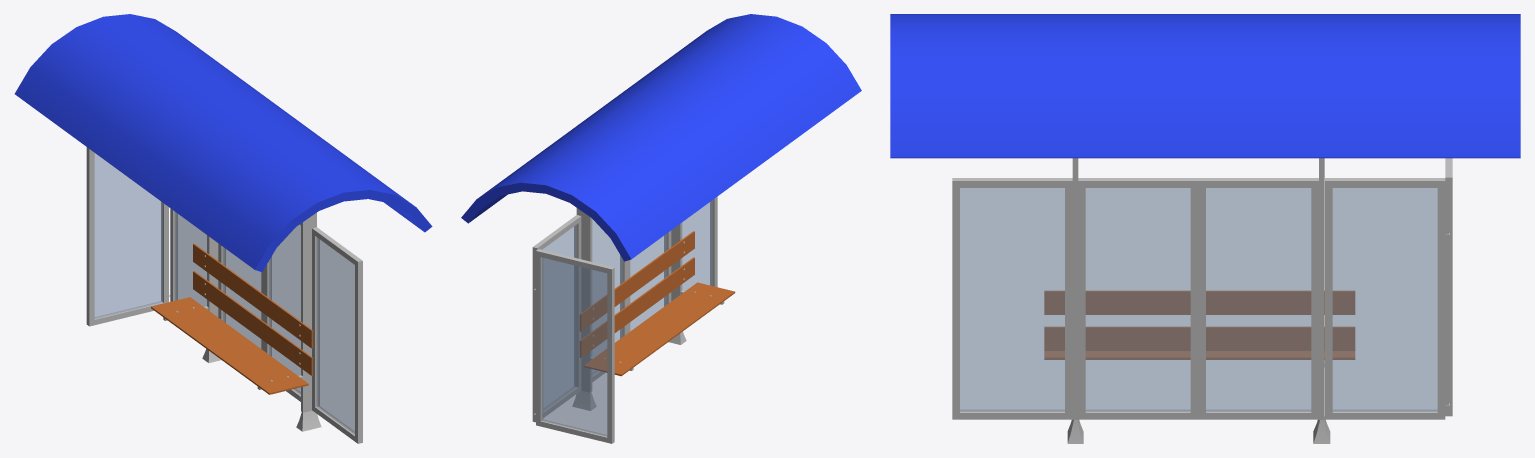
The model's file is bus_stop_split_less_details.fbx.
3 renders of one model, left to right at view 1: azimuth 30°, elevation 25°; view 2: azimuth 150°, elevation 25°; view 3: azimuth 270°, elevation 25°, orthographic. The views are drawn at different scales.
Parts seen in each view (by area): view 1: roof, bus_stop, bench; view 2: roof, bus_stop, bench; view 3: bus_stop, roof, bench.
Boxes of the visible parts, x1=… form: roof: x1=14, y1=14, x2=432, y2=271; bus_stop: x1=86, y1=147, x2=362, y2=443; bench: x1=151, y1=243, x2=312, y2=394; roof: x1=461, y1=14, x2=861, y2=261; bus_stop: x1=532, y1=196, x2=717, y2=443; bench: x1=580, y1=231, x2=735, y2=376; bus_stop: x1=952, y1=158, x2=1452, y2=443; roof: x1=890, y1=14, x2=1520, y2=158; bench: x1=1044, y1=291, x2=1354, y2=366.
Bounding box in the file's own units: 612 × 971 × 1433.
